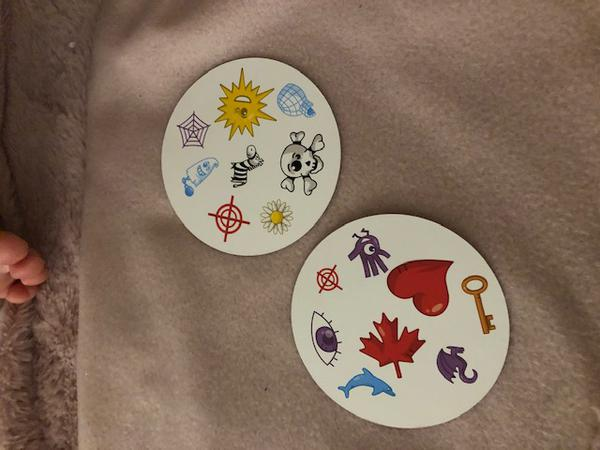cible: (207, 194, 251, 243), (310, 261, 344, 300)
cle: (455, 267, 498, 338)
coeur: (382, 253, 455, 320)
dauphin: (337, 365, 398, 401)
dooble: (347, 226, 395, 281)
dragon: (433, 341, 479, 390)
fantome: (175, 150, 221, 201)
feuille: (353, 312, 427, 380)
fleur: (259, 196, 296, 236)
igloo: (272, 81, 318, 126)
oeuil: (305, 308, 346, 371)
soleil: (215, 70, 275, 145)
tete_mort: (273, 128, 330, 198)
toile: (174, 108, 212, 156)
zebre: (223, 142, 267, 193)
